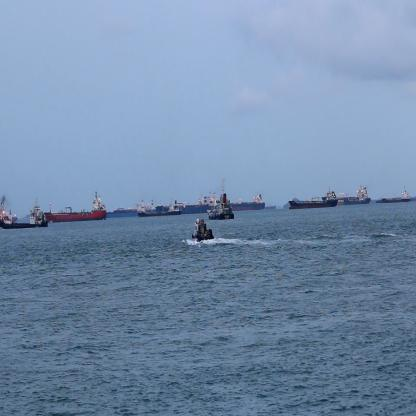Container Ship: (43, 182, 109, 219), (1, 196, 50, 230), (170, 187, 221, 214), (287, 186, 338, 210), (136, 194, 182, 219), (111, 194, 157, 218), (223, 187, 268, 208), (206, 193, 236, 221), (343, 186, 371, 206), (380, 187, 412, 203), (331, 190, 360, 204), (269, 196, 282, 213)
